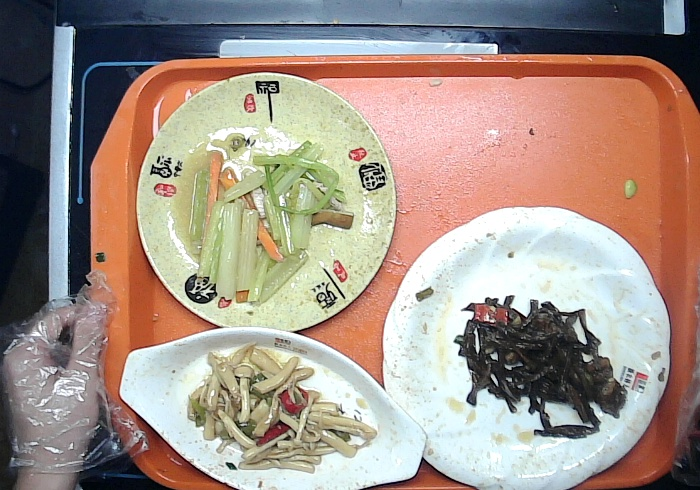NLDX-Bai_Zhe_Yuan_Pan: (376, 204, 671, 490)
NLDX-Fu_Zi_Yuan_Pan: (136, 71, 395, 335)
NLDX-Yu_Pan: (122, 325, 427, 490)
